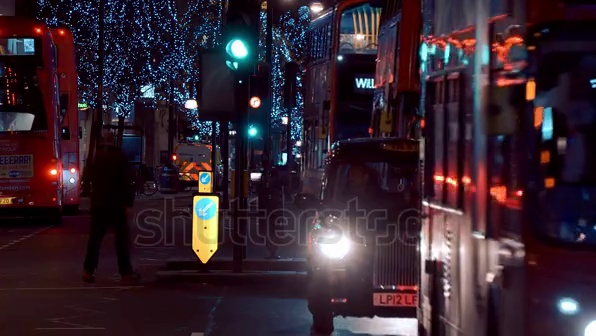licenseplate: (372, 289, 422, 309)
